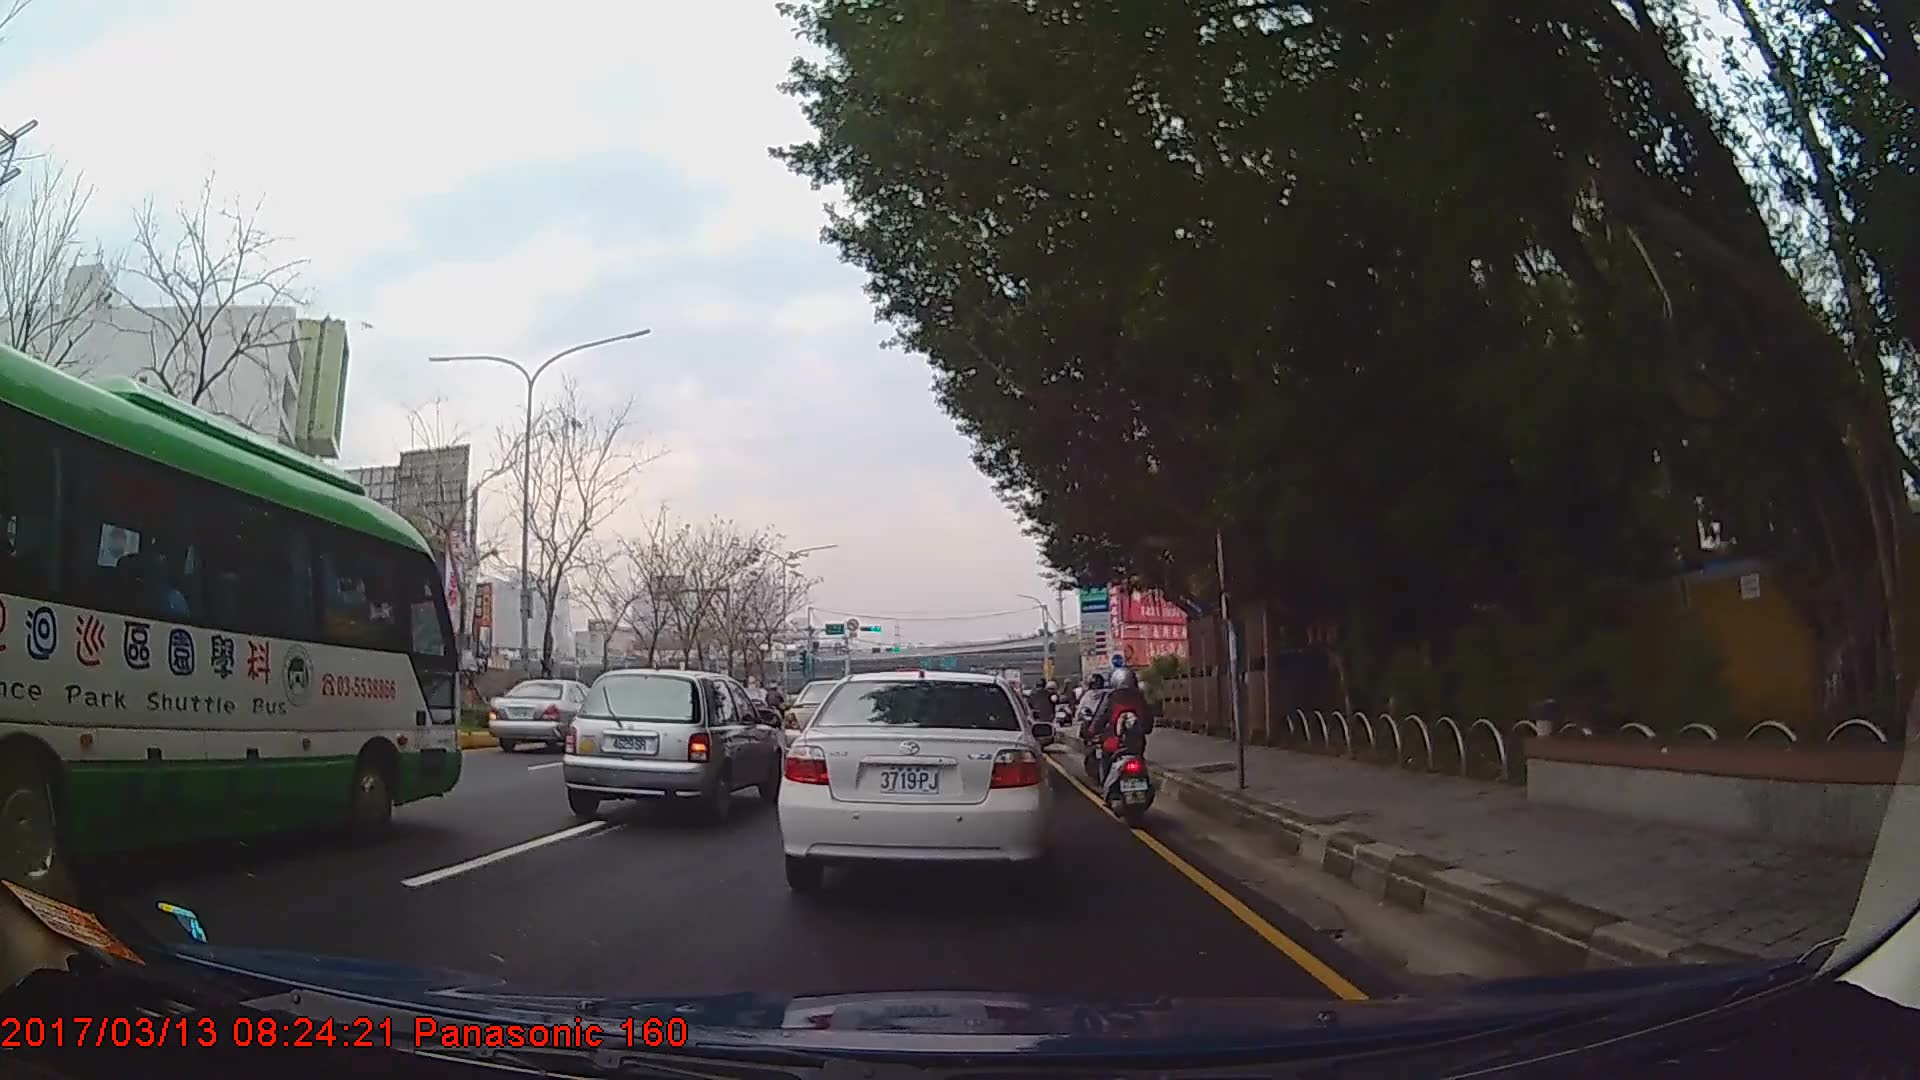rider: (1100, 661, 1161, 820), (1075, 673, 1120, 788), (1031, 676, 1057, 736)
vehicle: (0, 338, 461, 880), (776, 668, 1051, 891), (560, 665, 782, 821), (489, 677, 606, 752)
